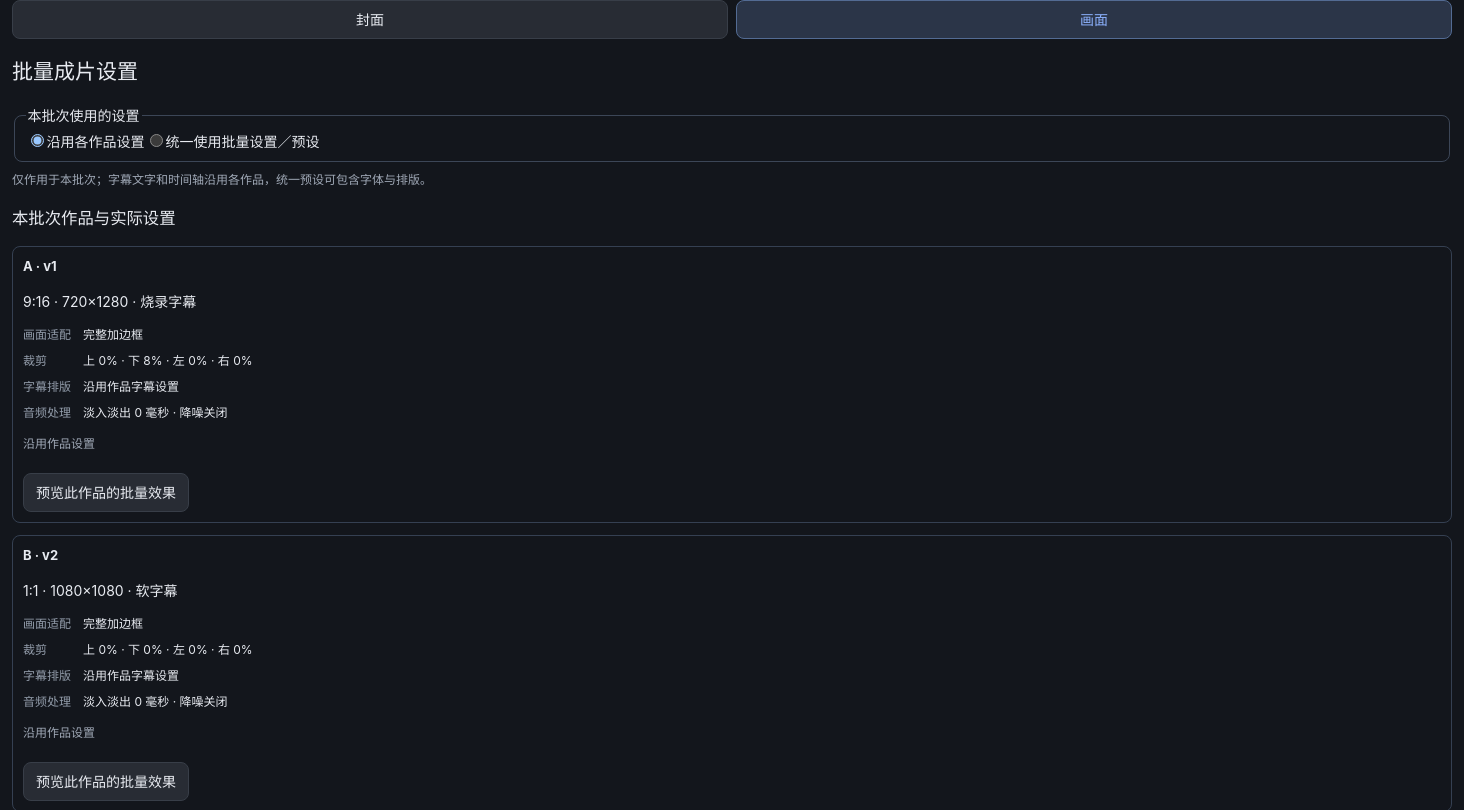
Test: 默认沿用每条作品设置，统一配置列出差异且不会覆盖作品设置
Expected: the radio button labelled "沿用各作品设置" is checked, [30,134,44,147]
Expected: the text "9:16 · 720×1280 · 烧录字幕" is shown, [23,293,196,310]
Click the button with aria-label "预览 A 的批量效果". click: click(106, 493)
box: [23,473,189,512]
(page scrolled)
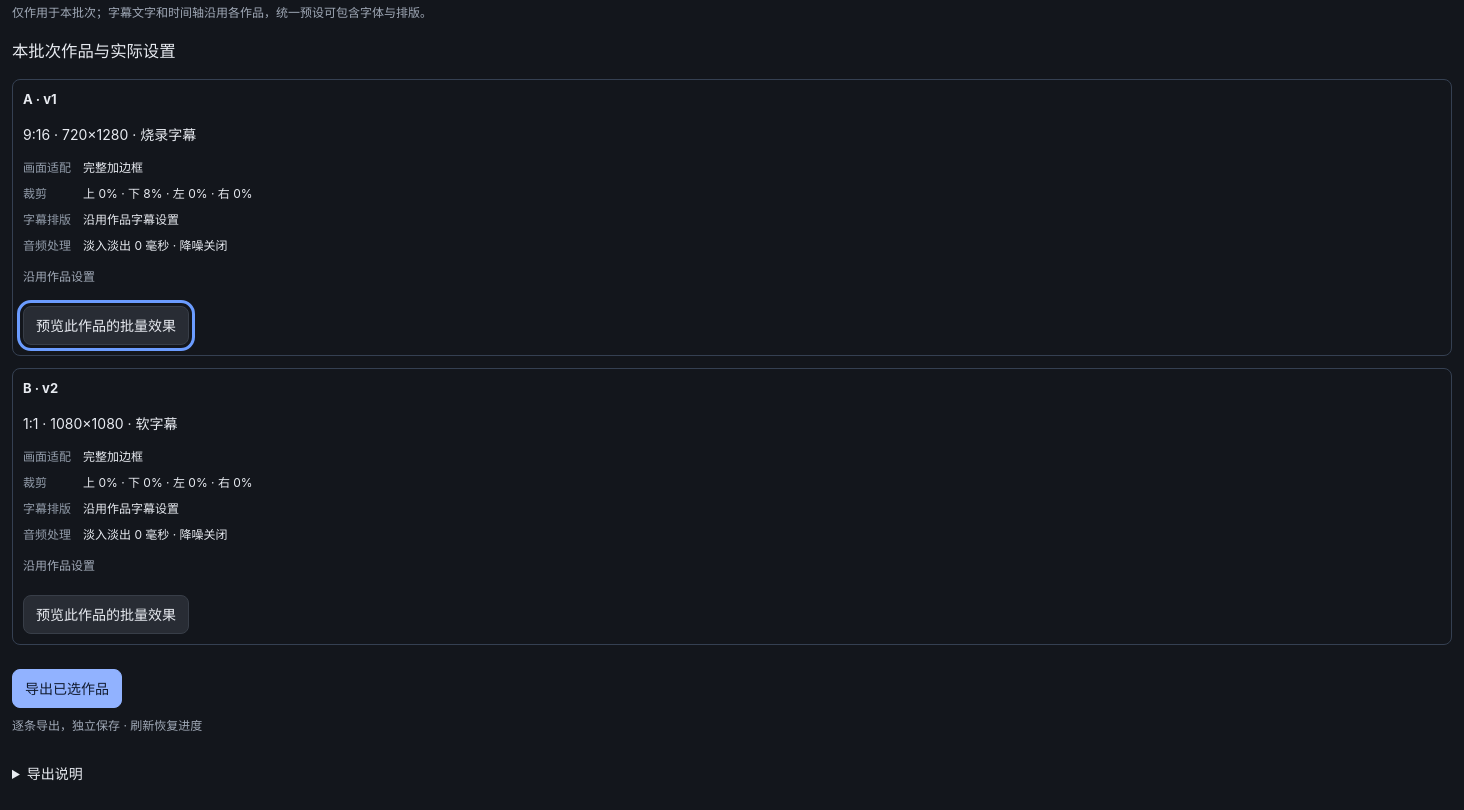
Click the button "导出已选作品". click: click(67, 688)
box: [12,669,122,708]
(page scrolled)
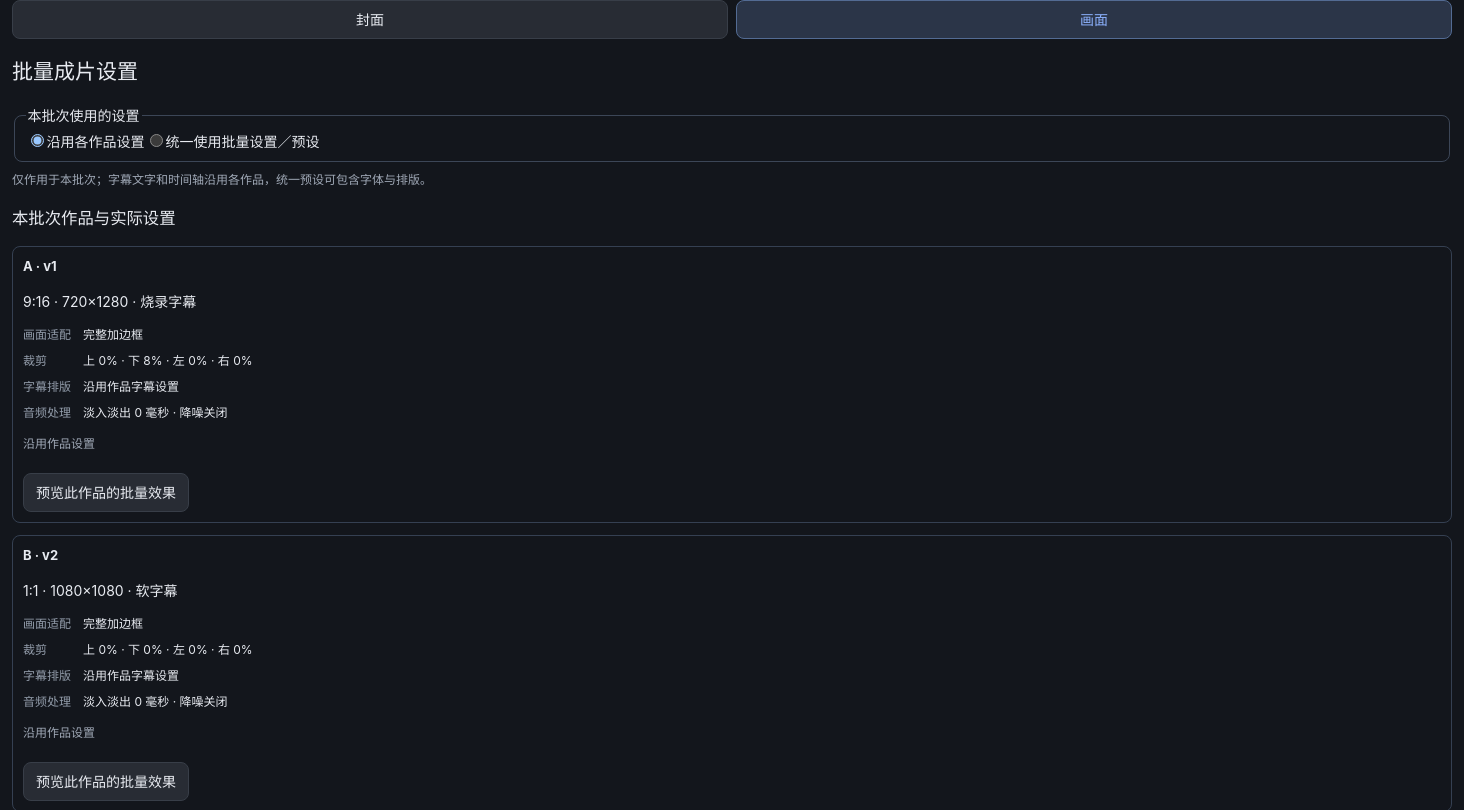
Click the radio button labelled "统一使用批量设置／预设". click: click(156, 141)
box: [150,134,162,147]
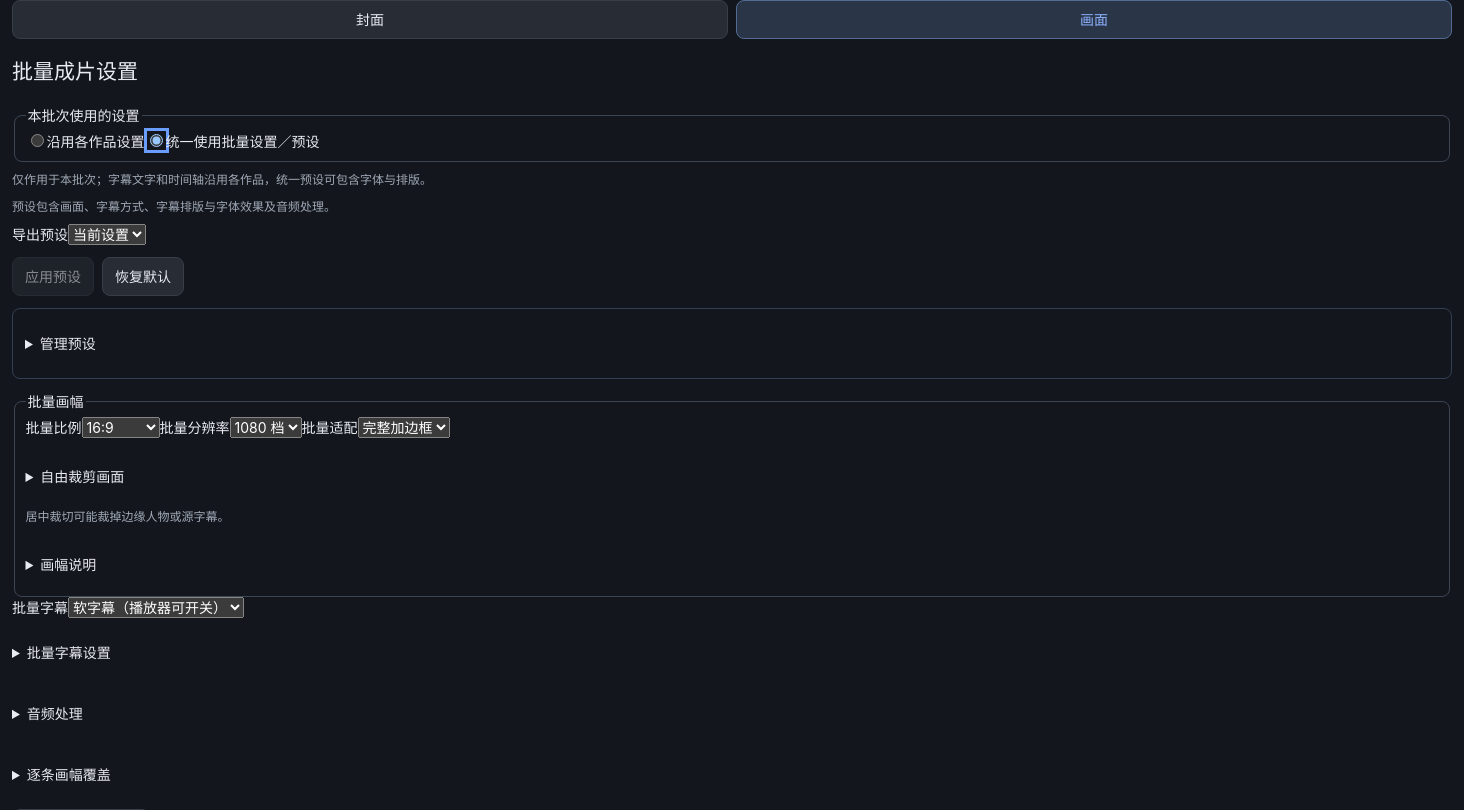
Click the radio button labelled "沿用各作品设置". click: click(37, 141)
box: [30,134,44,147]
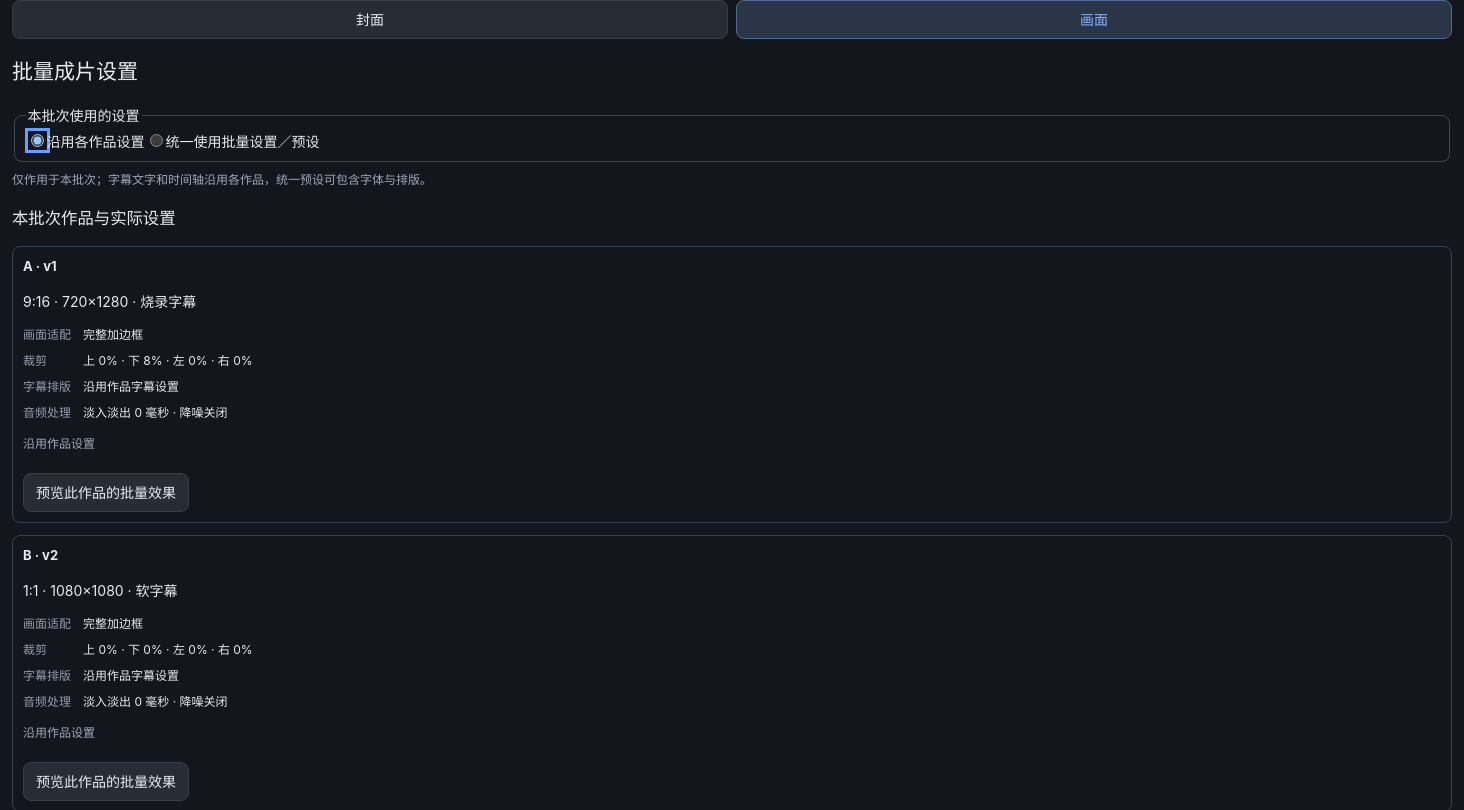
Expected: the text "9:16 · 720×1280 · 烧录字幕" is shown, [23,293,196,310]
Expected: the text "1:1 · 1080×1080 · 软字幕" is shown, [23,582,178,599]
